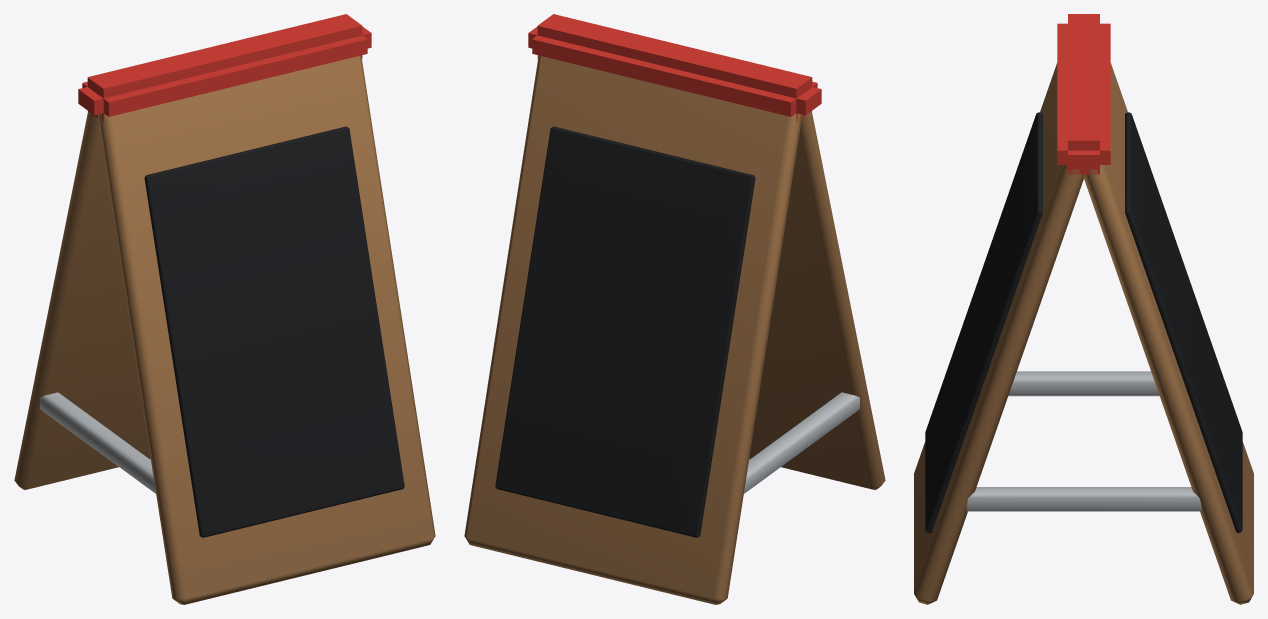
The model's file is SM_Sign_AFrame_Blank_01.glb.
3 renders of one model, left to right at view 1: azimuth 30°, elevation 25°; view 2: azimuth 150°, elevation 25°; view 3: azimuth 270°, elevation 25°, orthographic.
Parts seen in each view (by area): view 1: SM_Sign_AFrame_Blank_01; view 2: SM_Sign_AFrame_Blank_01; view 3: SM_Sign_AFrame_Blank_01.
Part boxes in pixels (x1,y1,x2,y2): SM_Sign_AFrame_Blank_01: [14, 14, 435, 604]; SM_Sign_AFrame_Blank_01: [464, 14, 885, 604]; SM_Sign_AFrame_Blank_01: [914, 14, 1253, 604].
Bounding box in the file's own units: 0.6 × 0.9626 × 0.6345.
1 material, 1 textured.
